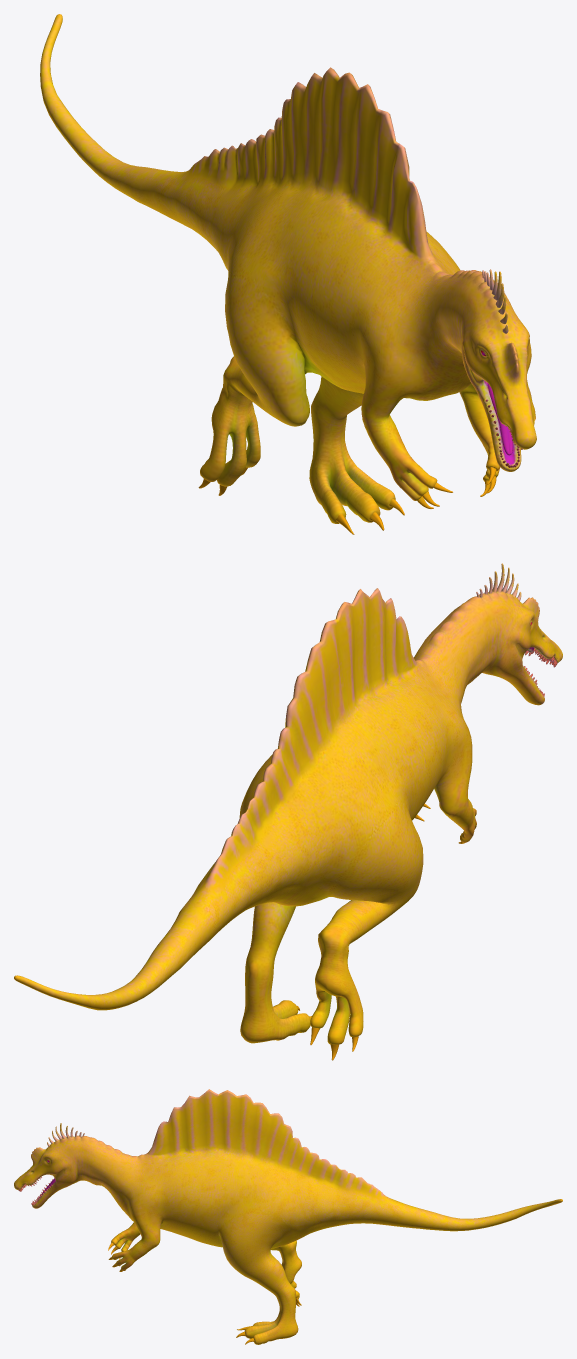
Rendered from Spinosaurus.glb.
3 views of the same model, one above another, from view 1: azimuth 30°, elevation 25°; view 2: azimuth 150°, elevation 25°; view 3: azimuth 270°, elevation 25° (orthographic). The views are drawn at different scales.
Parts seen in each view (by area): view 1: spinosaurus.1; view 2: spinosaurus.1; view 3: spinosaurus.1.
Part boxes in pixels (box(x1,y1,x2,y2)): spinosaurus.1: box(40, 14, 536, 534); spinosaurus.1: box(14, 563, 562, 1060); spinosaurus.1: box(14, 1089, 562, 1344).
Bounding box in the file's own units: 0.6727 × 1.73 × 3.59.
1 material, 1 textured.
